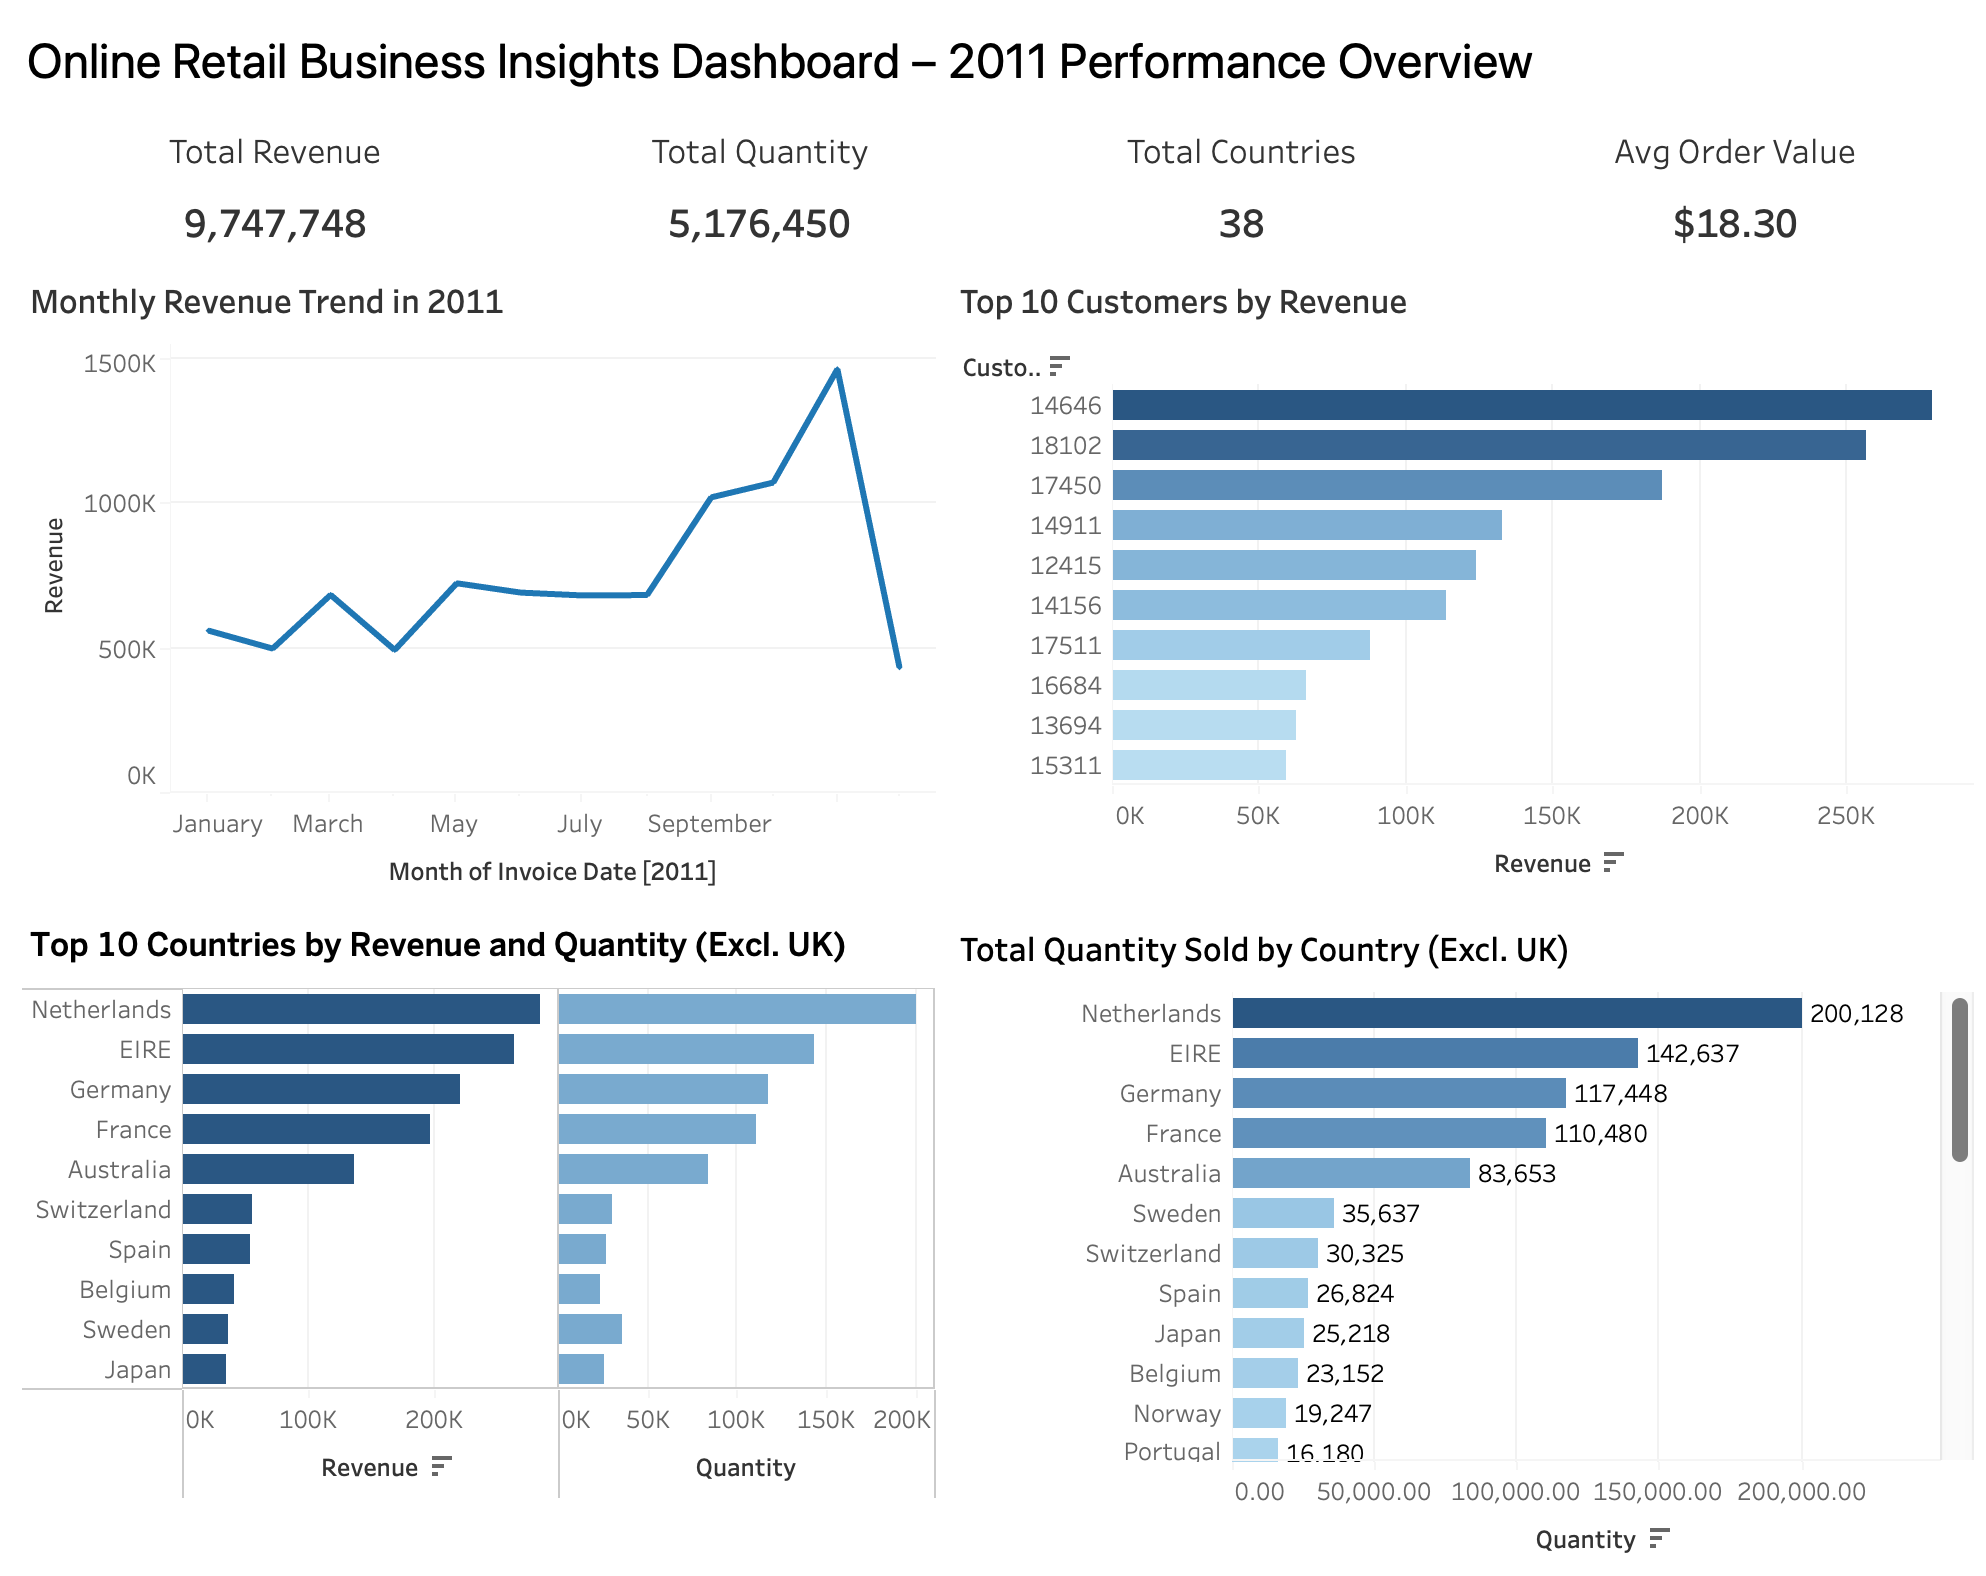

This screenshot's page, from the dashboard's own definition file:
{"tool":"tableau","page":{"name":"Dashboard","canvas":[1000,800],"ordinal":0},"visuals":[{"type":"text","box":[8,8,984,51]},{"type":"worksheet","title":"K1","mark":"Automatic","box":[8,59,261,75]},{"type":"worksheet","title":"K2","mark":"Automatic","box":[269,59,231,75]},{"type":"worksheet","title":"K3","mark":"Automatic","box":[500,59,250,75]},{"type":"worksheet","title":"K4","mark":"Automatic","box":[750,59,242,75]},{"type":"worksheet","title":"Q1","mark":"Automatic","rows":["Calculation_2808135121279492096"],"cols":["InvoiceDate"],"box":[8,134,465,324.3]},{"type":"worksheet","title":"Q3","mark":"Automatic","rows":["CustomerID"],"cols":["Calculation_2808135121279492096"],"box":[473,134,519,324.3]},{"type":"worksheet","title":"Q2","mark":"Bar","rows":["Country"],"cols":["Calculation_2808135121279492096","Quantity"],"box":[8,458.3,465,333.7]},{"type":"worksheet","title":"Q4","mark":"Automatic","rows":["Country"],"cols":["Quantity"],"box":[473,458.3,519,333.7]}]}

Visuals, with their boxes in screenshot pixels (x1, y1, x2, y2), scaled from the page's 1000x800 canvas onto the 1986x1576 screenshot:
text: box(16, 16, 1970, 116)
"K1" worksheet: box(16, 116, 534, 264)
"K2" worksheet: box(534, 116, 993, 264)
"K3" worksheet: box(993, 116, 1490, 264)
"K4" worksheet: box(1490, 116, 1970, 264)
"Q1" worksheet: box(16, 264, 939, 903)
"Q3" worksheet: box(939, 264, 1970, 903)
"Q2" worksheet (Bar marks): box(16, 903, 939, 1560)
"Q4" worksheet: box(939, 903, 1970, 1560)
